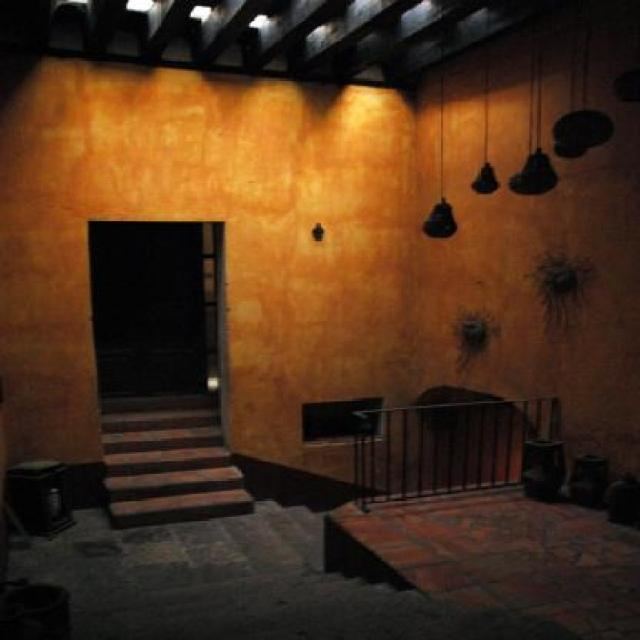stair: (72, 567, 576, 640), (103, 394, 260, 526), (254, 497, 335, 572)
